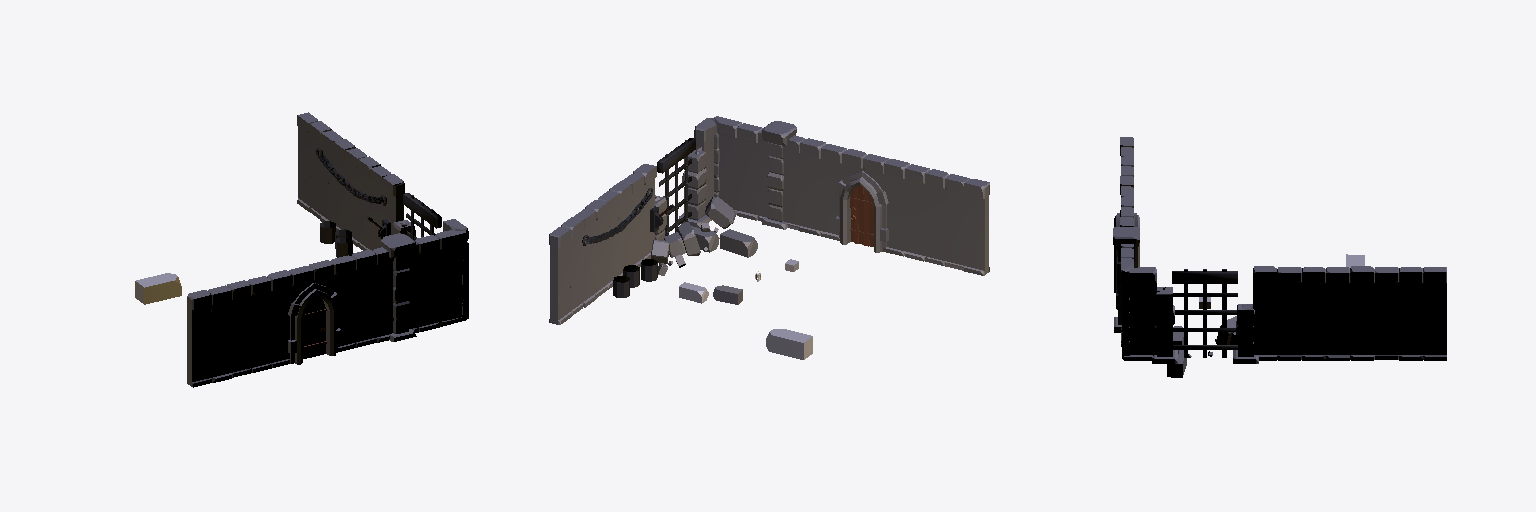
The picture shows the model from 3 angles: view 1: azimuth 30°, elevation 25°; view 2: azimuth 150°, elevation 25°; view 3: azimuth 270°, elevation 25°; orthographic projection.
Parts seen in each view (by area): view 1: Wall5.003_Untitled.019; view 2: Wall5.003_Untitled.019; view 3: Wall5.003_Untitled.019.
Boxes of the visible parts, box(x1,y1,x2,y2) form: Wall5.003_Untitled.019: box(135, 112, 468, 387); Wall5.003_Untitled.019: box(549, 116, 989, 359); Wall5.003_Untitled.019: box(1113, 137, 1446, 377).
Bounding box in the file's own units: 8.49 × 3.19 × 8.62.
Materials: 1 (1 with a texture image).